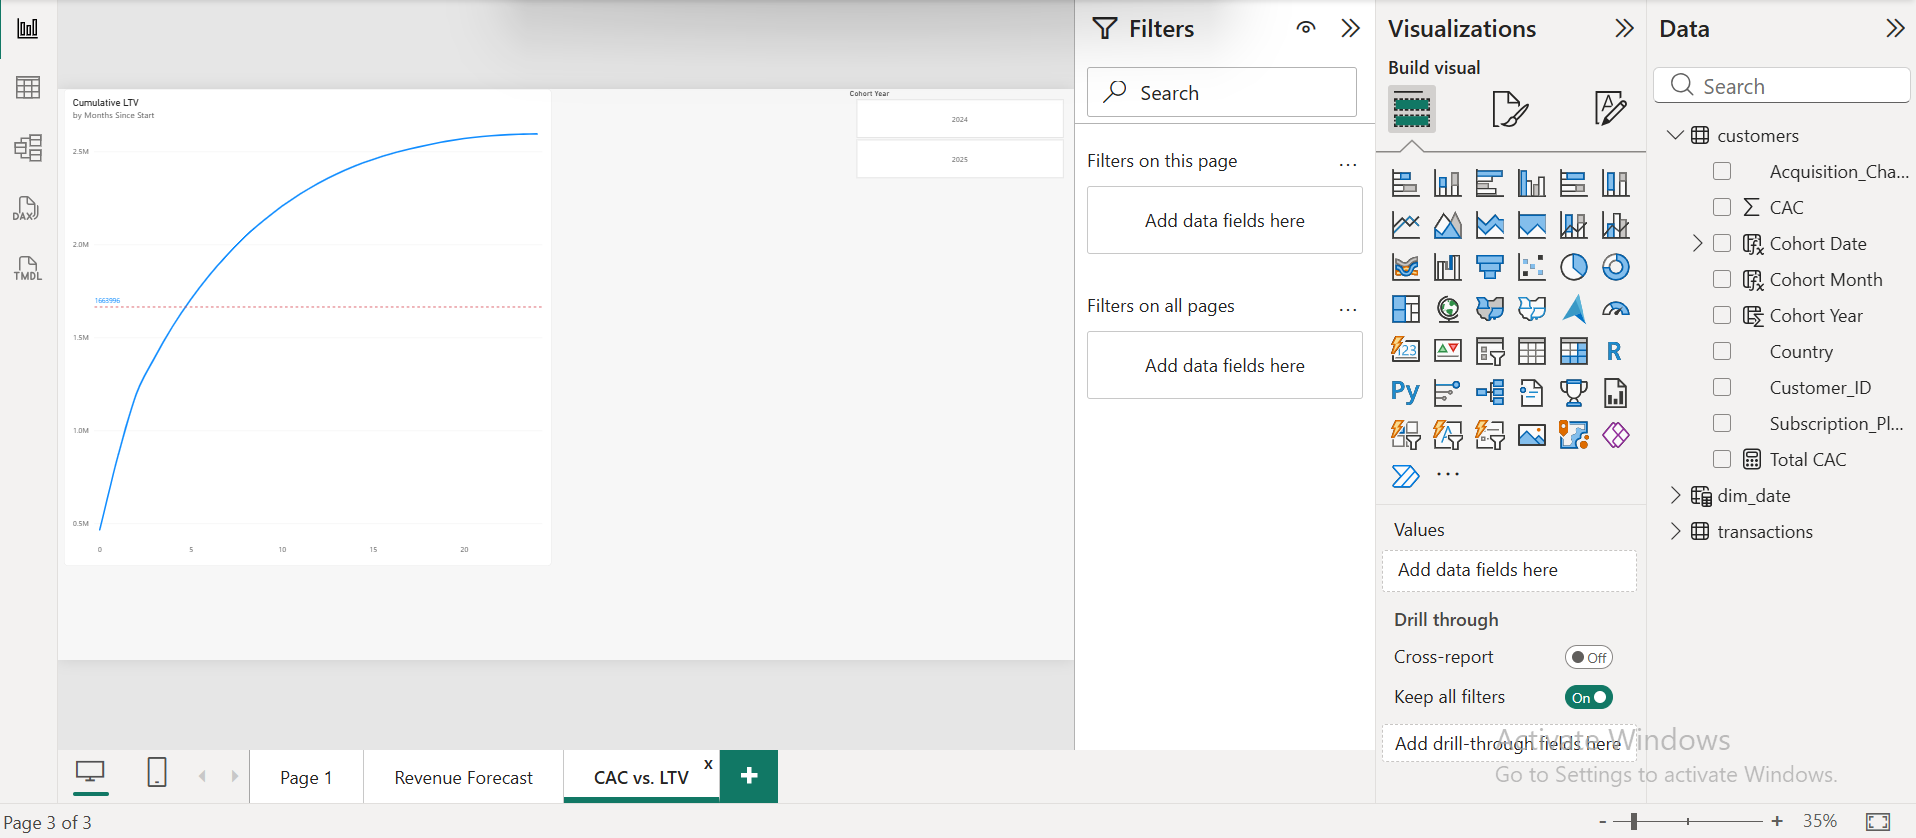

The dashboard page shown, as its layout file describes it:
{"tool":"powerbi","page":{"name":"CAC vs. LTV","canvas":[1920,1080],"ordinal":2},"visuals":[{"type":"lineChart","fields":{"Category":["transactions.Months Since Start"],"Y":["transactions.Cumulative LTV"]},"box":[11.3,0,921.3,901.4],"z":0},{"type":"slicer","fields":{"Values":["customers.Cohort Year"]},"box":[1488.2,0,430.9,170.1],"z":1}]}

Visuals, with their boxes on the page's 1920x1080 design canvas (x1, y1, x2, y2). These are canvas units, not pixel positions in the 1916x838 screenshot, which may show the page scaled, cropped or inside an application window:
lineChart - transactions.Months Since Start x transactions.Cumulative LTV: (11, 0, 933, 901)
slicer - customers.Cohort Year: (1488, 0, 1919, 170)
